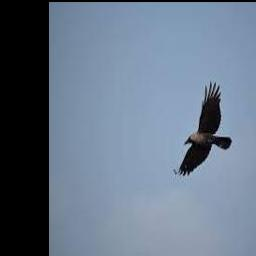Crow: (179, 81, 232, 176)
